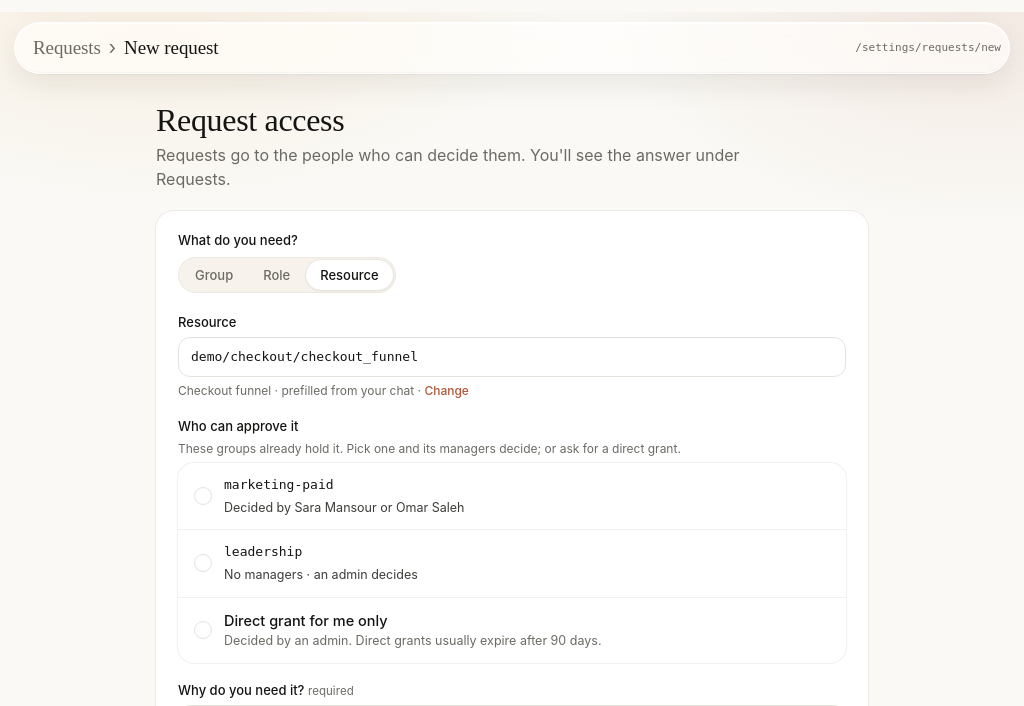
Test case: NewRequestPage / RequestForm › picking a suggested group sends a group request, then it shows in Requests
Click the radio button labelled "marketing-paid Decided by Sara Mansour or Omar Saleh".
click(512, 497)  # box [178,463,846,530]
(page scrolled)
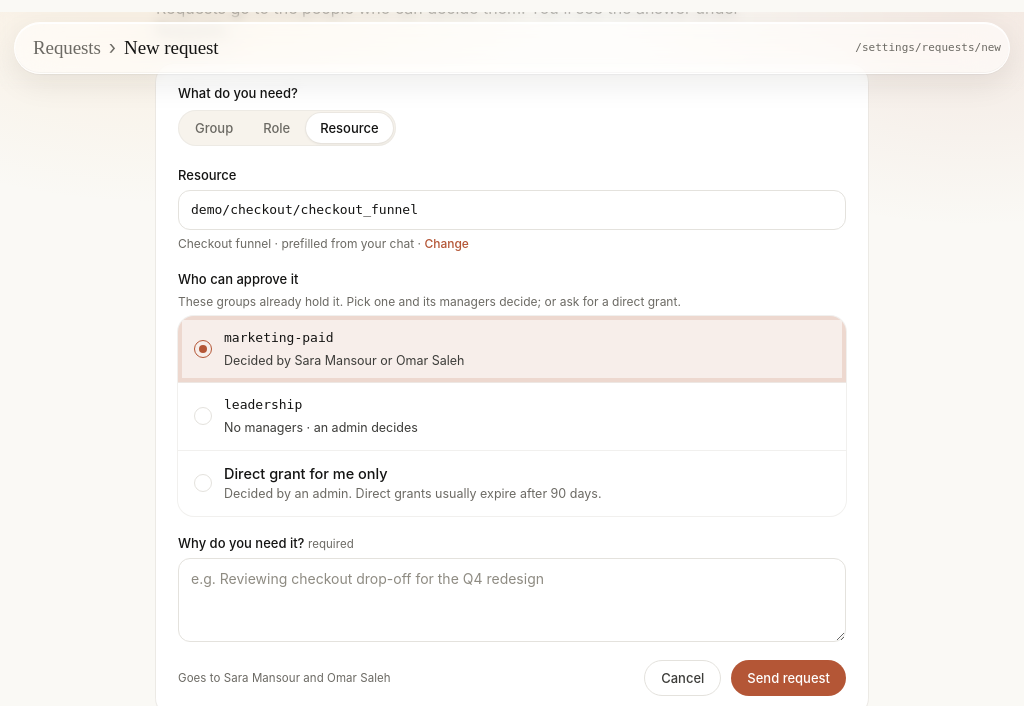
Expected: the text "Goes to Sara Mansour and Omar Saleh" is shown, [178,670,391,686]
Type "Checkout drop-off review" into the text box labelled "Why do you need it? required".
click(512, 600); type("Checkout drop-off review")  # box [178,558,846,642]
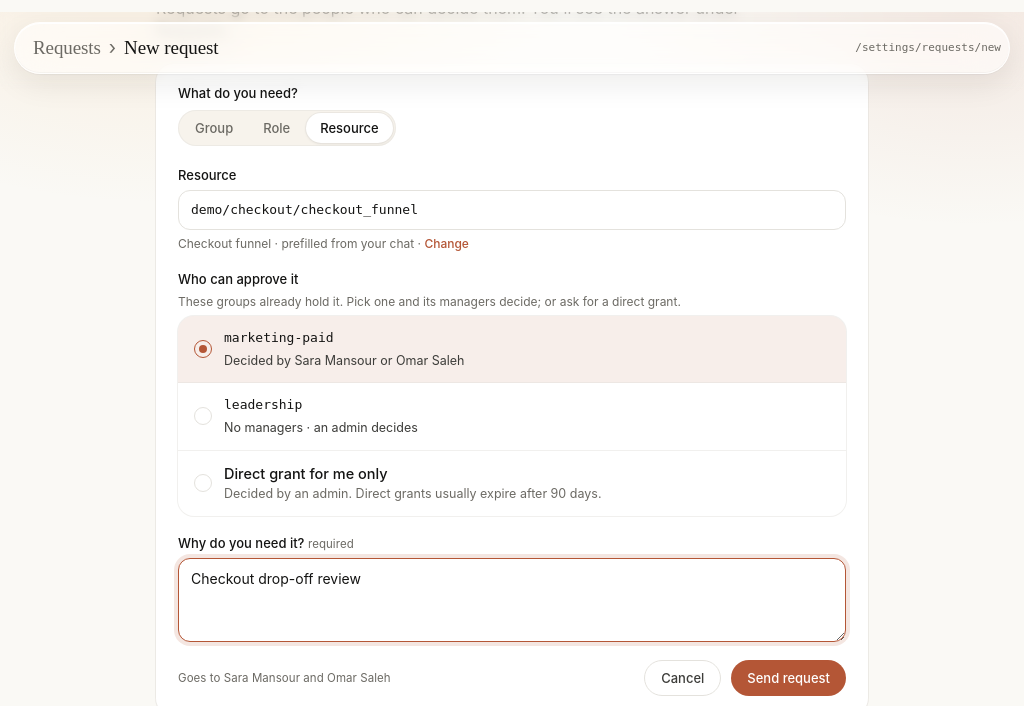
Click the button "Send request".
click(789, 678)  # box [731,660,846,696]
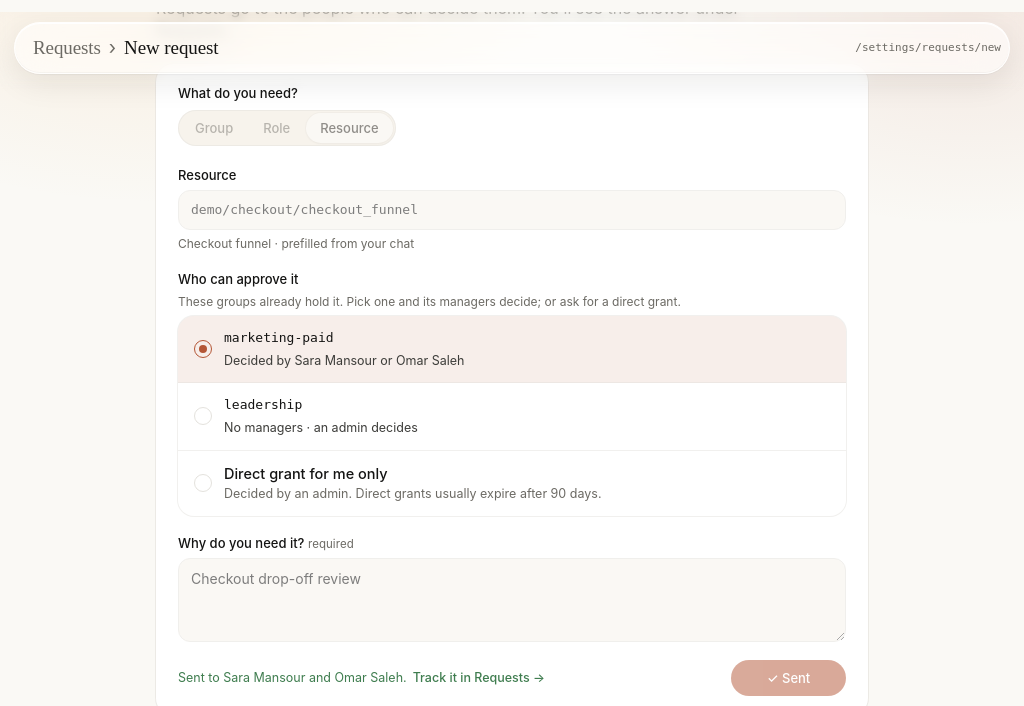
Expected: the text "Sent to Sara Mansour and Omar Saleh." is shown, [178,669,407,688]
Click the link "Track it in Requests →".
click(479, 678)  # box [413,669,545,688]
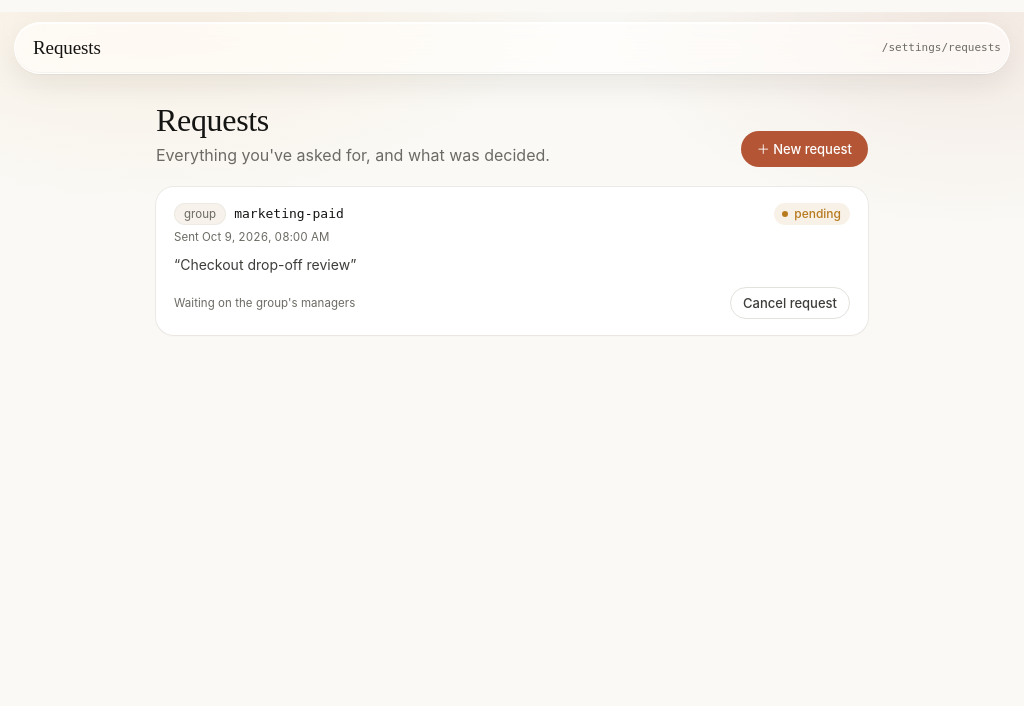
Expected: the text "marketing-paid" is shown, [234,204,344,224]
Expected: the text "pending" is shown, [774,203,850,225]
